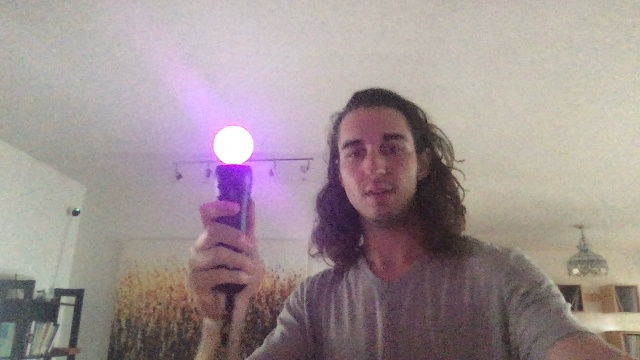wand: (216, 126, 252, 164)
